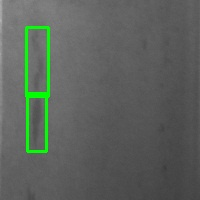inclusion: (26, 27, 48, 96), (27, 93, 46, 151)
